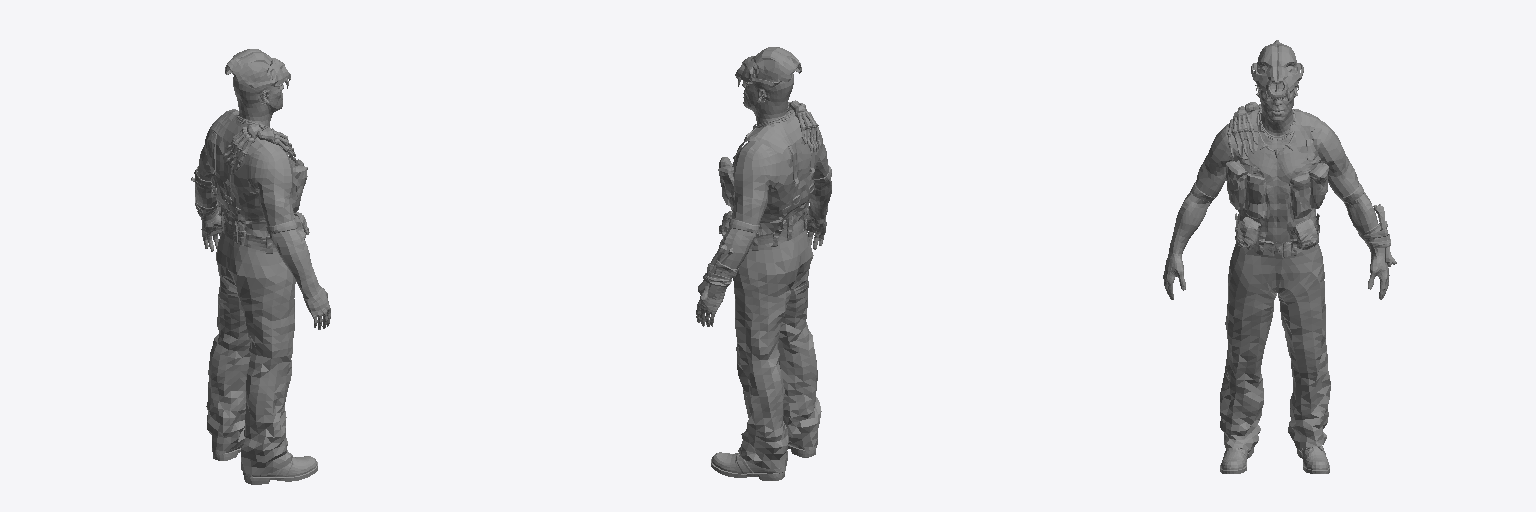
File: TribalGuy.obj
3 views of the same model, side by side, from view 1: azimuth 30°, elevation 25°; view 2: azimuth 150°, elevation 25°; view 3: azimuth 270°, elevation 25° (orthographic).
Visible parts, largest first — view 1: SK_Character_Tribal; view 2: SK_Character_Tribal; view 3: SK_Character_Tribal.
Boxes of the visible parts, box(x1,y1,x2,y2) form: SK_Character_Tribal: box(191, 49, 330, 484); SK_Character_Tribal: box(696, 47, 831, 480); SK_Character_Tribal: box(1163, 40, 1396, 473).
Bounding box in the file's own units: 19.49 × 99.24 × 50.71.